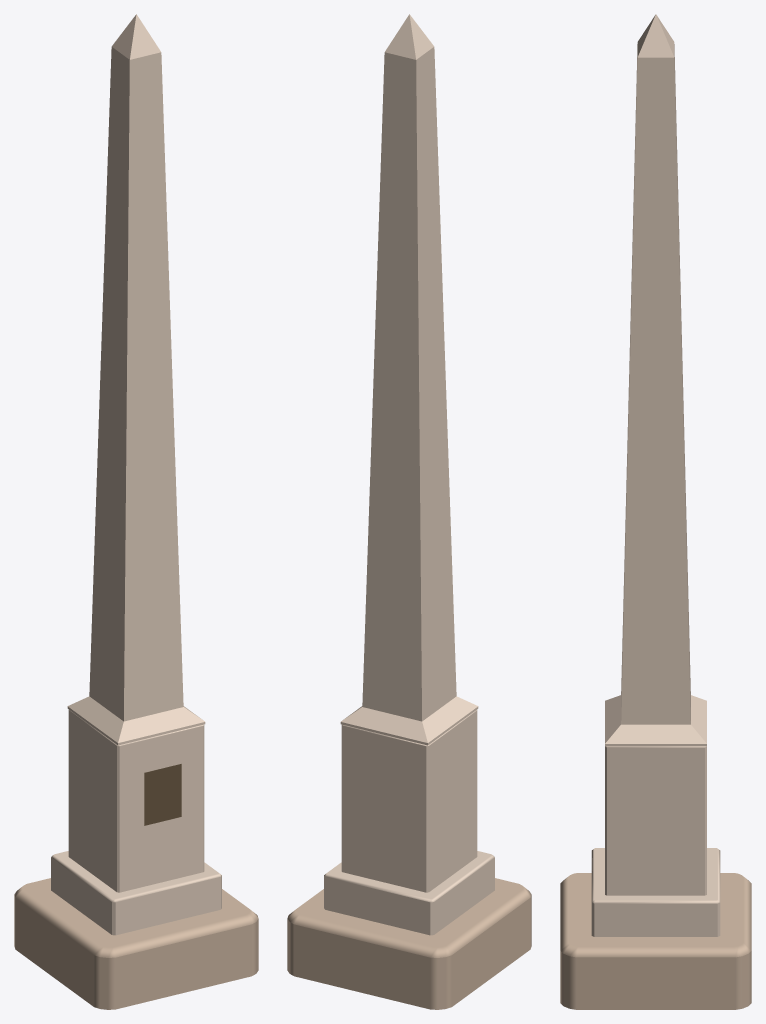
Rendered from hou-pioneer-memorial.glb.
The picture shows the model from 3 angles, left to right: view 1: azimuth 30°, elevation 25°; view 2: azimuth 150°, elevation 25°; view 3: azimuth 270°, elevation 25°; orthographic projection.
Visible parts, largest first — view 1: Pioneer Memorial; view 2: Pioneer Memorial; view 3: Pioneer Memorial.
Part boxes in pixels (x1,y1,x2,y2): Pioneer Memorial: (14, 14, 258, 1009); Pioneer Memorial: (287, 14, 531, 1009); Pioneer Memorial: (560, 14, 751, 1009).
Size of the model in its own units: 2.9 by 16 by 2.9.
